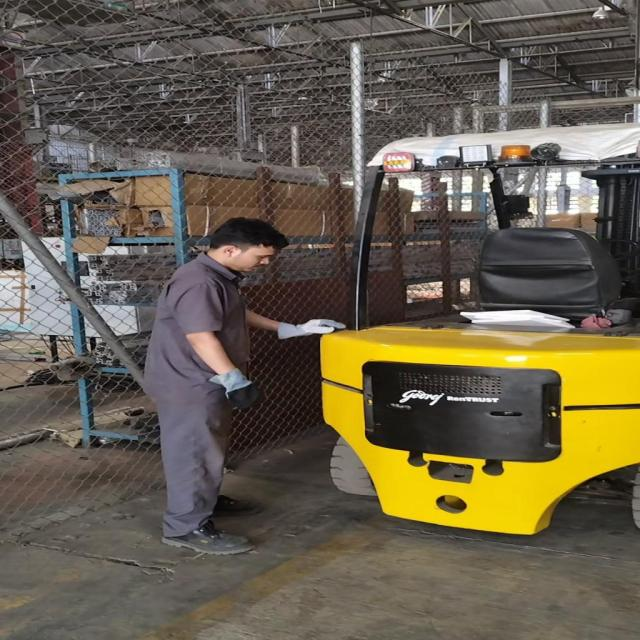Gloves-Detection: (201, 370, 269, 415), (278, 319, 342, 345)
